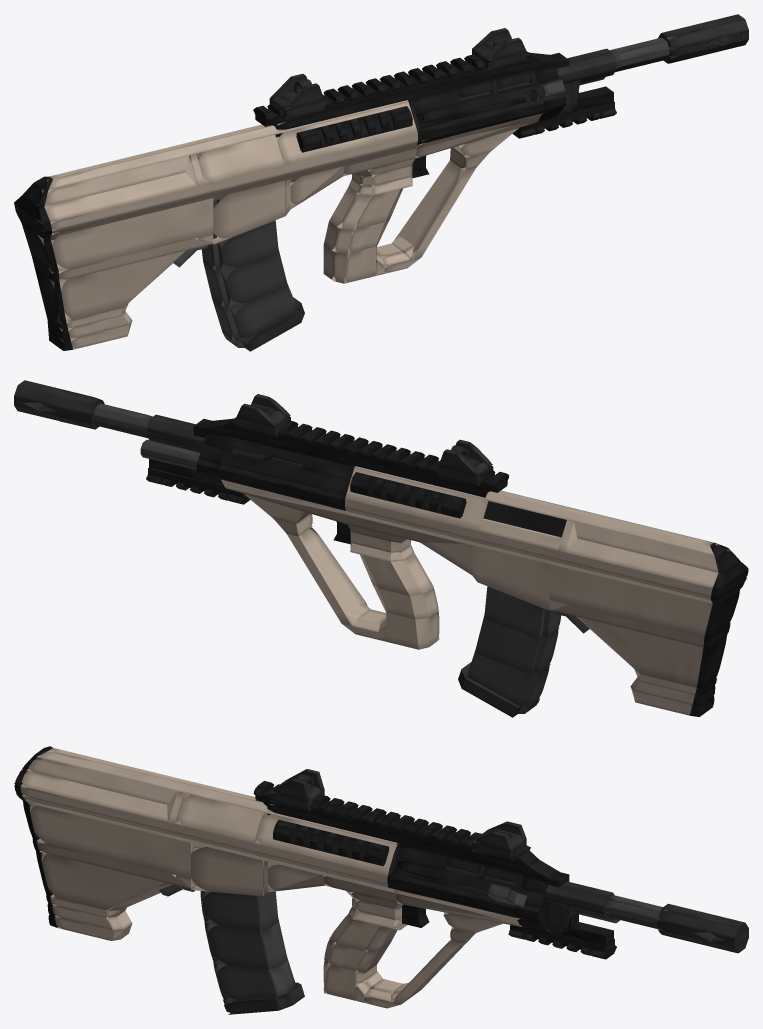
Rendered from aug3.obj.
The picture shows the model from 3 angles, top to bottom: view 1: azimuth 30°, elevation 25°; view 2: azimuth 150°, elevation 25°; view 3: azimuth 330°, elevation 25°; orthographic projection.
Parts seen in each view (by area): view 1: gunModel54, gunModel57, gunModel28, gunModel50, gunModel34, gunModel46, gunModel32, gunModel65, gunModel116, gunModel66, ammoModel2, gunModel27 (+35 smaller); view 2: gunModel54, gunModel57, gunModel28, gunModel50, gunModel34, gunModel46, gunModel65, gunModel116, gunModel66, gunModel27, ammoModel2, gunModel26 (+36 smaller); view 3: gunModel54, gunModel57, gunModel28, gunModel50, gunModel34, gunModel32, gunModel65, gunModel116, gunModel66, ammoModel2, gunModel27, gunModel113 (+38 smaller).
Boxes of the visible parts, bbox=[...] form: gunModel54: bbox=[37, 198, 213, 271]; gunModel57: bbox=[49, 250, 185, 321]; gunModel28: bbox=[38, 133, 417, 230]; gunModel50: bbox=[47, 100, 408, 189]; gunModel34: bbox=[213, 180, 285, 244]; gunModel46: bbox=[394, 160, 475, 259]; gunModel32: bbox=[196, 135, 283, 184]; gunModel65: bbox=[45, 172, 197, 222]; gunModel116: bbox=[275, 52, 559, 131]; gunModel66: bbox=[41, 156, 188, 206]; ammoModel2: bbox=[221, 253, 286, 307]; gunModel27: bbox=[275, 102, 417, 165]; gunModel54: bbox=[549, 564, 712, 637]; gunModel57: bbox=[577, 616, 703, 687]; gunModel28: bbox=[345, 499, 712, 596]; gunModel50: bbox=[354, 466, 718, 555]; gunModel34: bbox=[477, 546, 549, 610]; gunModel46: bbox=[287, 527, 367, 625]; gunModel65: bbox=[565, 538, 718, 588]; gunModel116: bbox=[203, 418, 487, 497]; gunModel66: bbox=[574, 522, 729, 572]; gunModel27: bbox=[345, 468, 488, 531]; ammoModel2: bbox=[476, 619, 541, 673]; gunModel26: bbox=[220, 449, 346, 494]; gunModel54: bbox=[30, 805, 192, 878]; gunModel57: bbox=[41, 853, 165, 910]; gunModel28: bbox=[20, 786, 387, 884]; gunModel50: bbox=[37, 748, 397, 844]; gunModel34: bbox=[191, 846, 264, 896]; gunModel32: bbox=[175, 794, 264, 842]; gunModel65: bbox=[20, 758, 169, 821]; gunModel116: bbox=[267, 803, 560, 879]; gunModel66: bbox=[26, 757, 178, 804]; ammoModel2: bbox=[207, 919, 270, 969]; gunModel27: bbox=[254, 813, 397, 875]; gunModel113: bbox=[255, 787, 539, 866].
Size of the model in its own units: 20.3 by 6.7 by 2.21.
